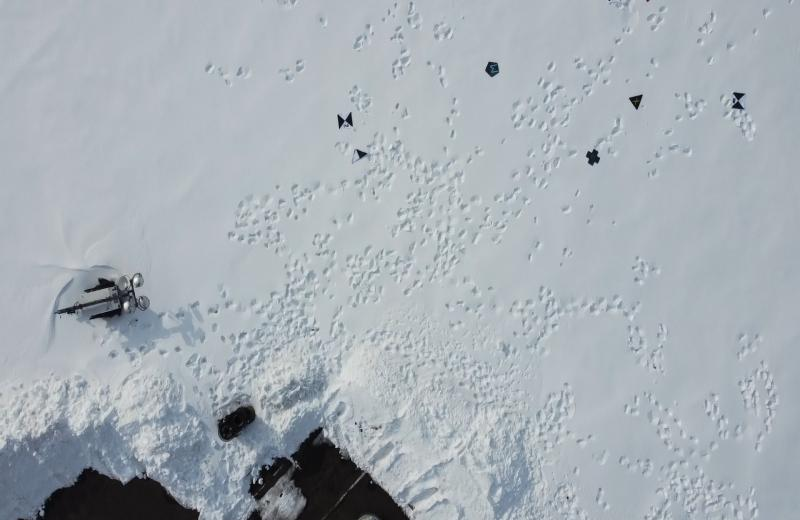Cross: (584, 148, 603, 167)
Pentagon: (485, 60, 500, 79)
Triangle: (628, 94, 645, 111)
